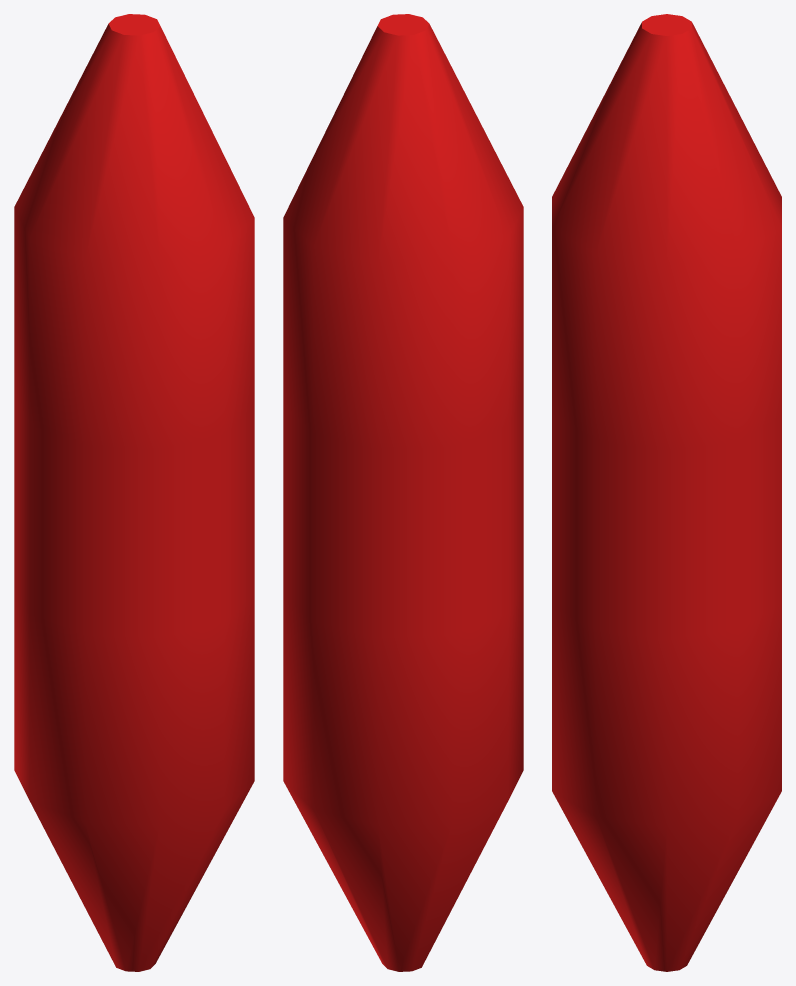
Rendered from ShortLaser_A.obj.
3 views of the same model, side by side, from view 1: azimuth 30°, elevation 25°; view 2: azimuth 150°, elevation 25°; view 3: azimuth 270°, elevation 25° (orthographic).
Visible parts, largest first — view 1: cylinder; view 2: cylinder; view 3: cylinder.
Part boxes in pixels (x1,y1,x2,y2): cylinder: [14, 14, 254, 971]; cylinder: [283, 14, 523, 971]; cylinder: [552, 14, 781, 971].
Bounding box in the file's own units: 0.8876 × 3.8 × 0.8442.
